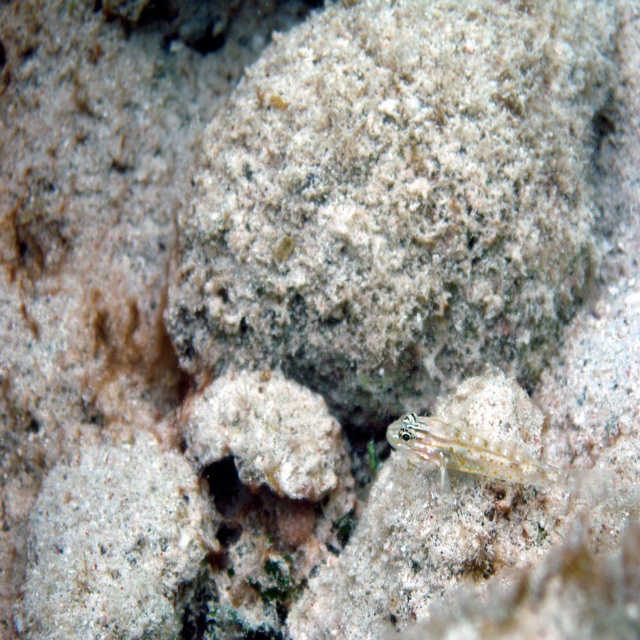Fish: (385, 410, 568, 495)
